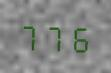seven: (18, 18, 41, 52), (43, 19, 66, 53)
six: (67, 20, 90, 54)
